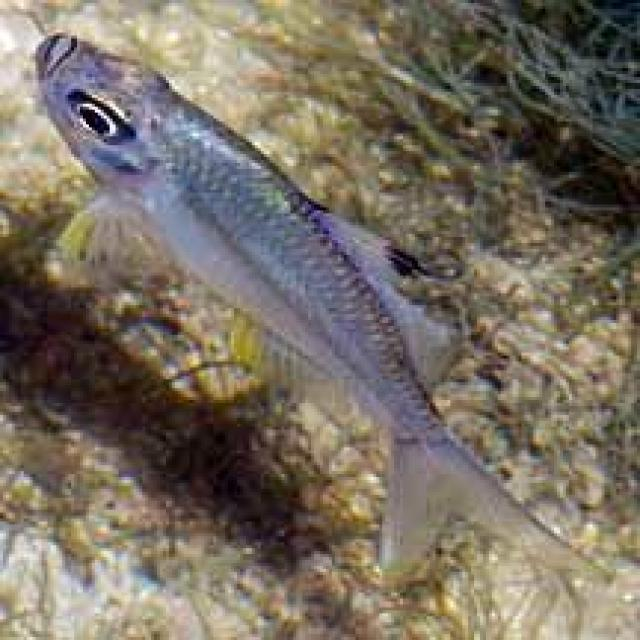Glass-Perchlet: (11, 0, 602, 575)
